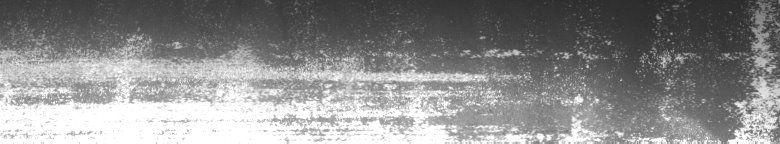kb: (270, 4, 776, 136)
